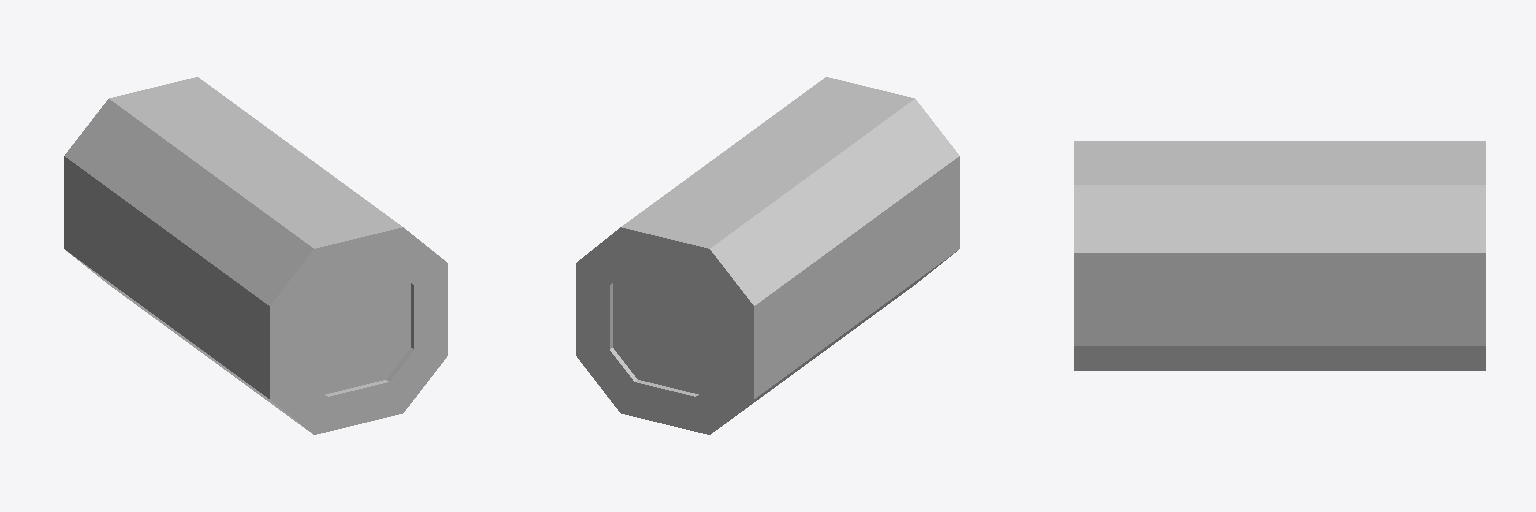
Rendered from overhead_truss_concrete.obj.
3 views of the same model, side by side, from view 1: azimuth 30°, elevation 25°; view 2: azimuth 150°, elevation 25°; view 3: azimuth 270°, elevation 25° (orthographic).
Parts seen in each view (by area): view 1: side; view 2: side; view 3: side.
Part boxes in pixels (x1,y1,x2,y2): side: (64,77,447,434); side: (576,77,959,434); side: (1074,141,1485,370).
Bounding box in the file's own units: 0.5 × 0.5 × 1.